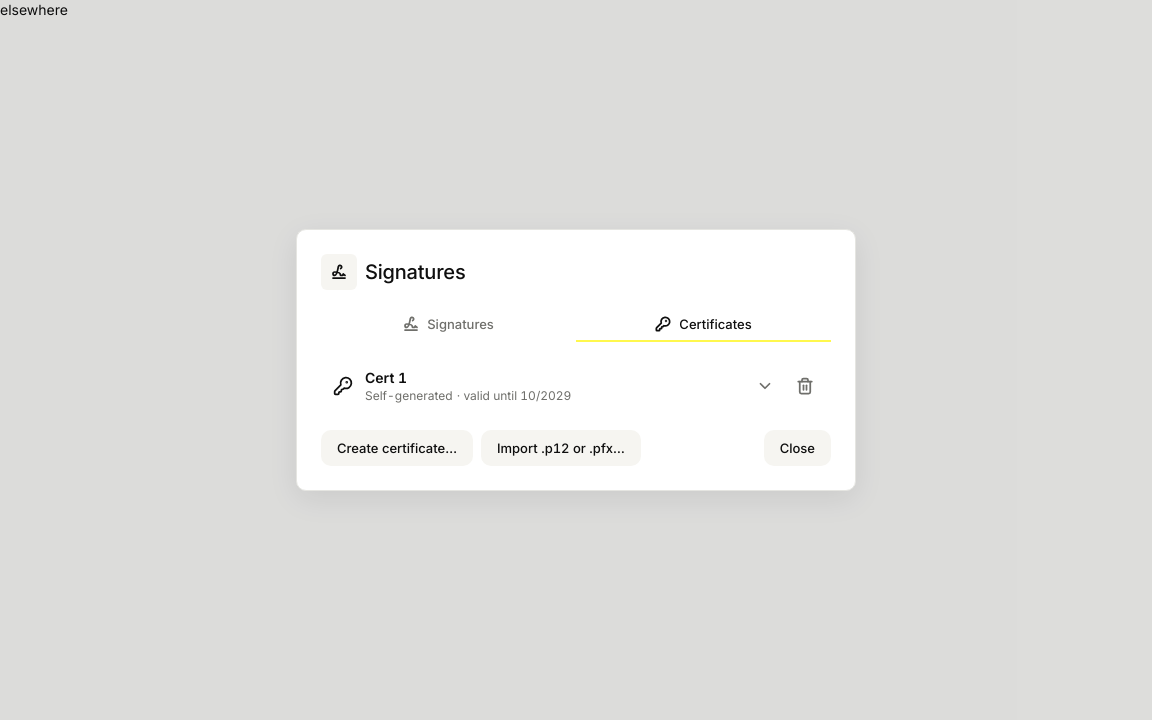
Scenario: certificate manager › switches tabs and remembers the last one
Click the tab "Signatures": (448, 324) [321,306,576,342]
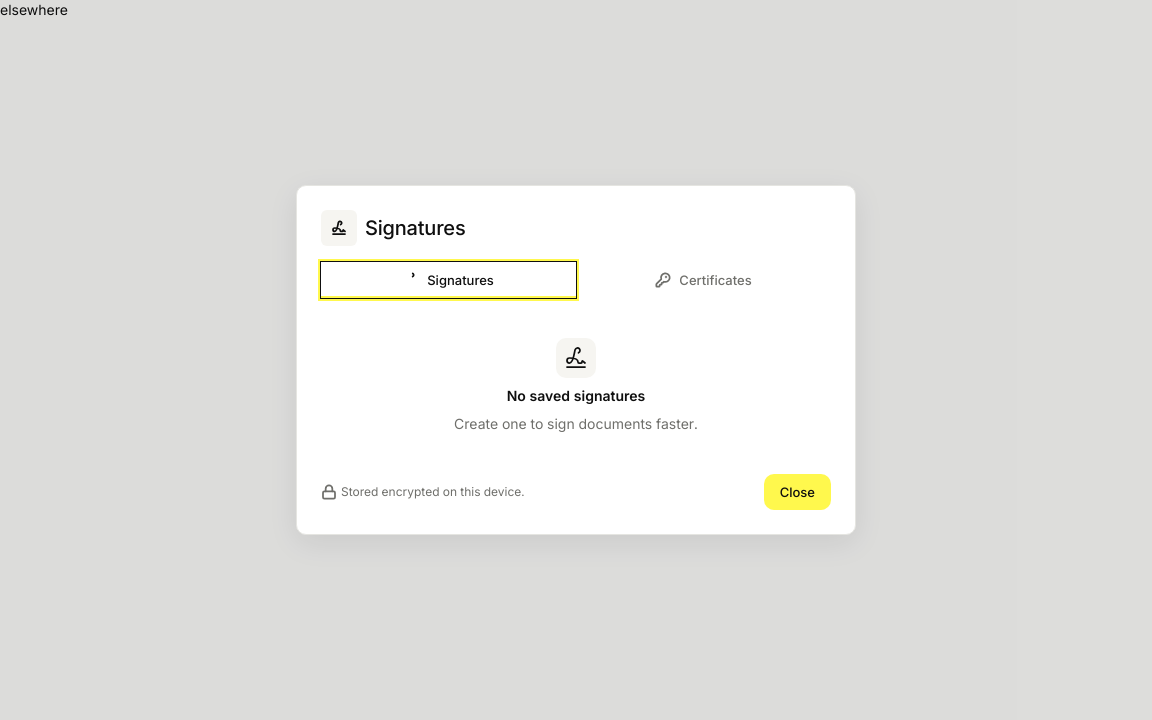
Now the button "Create certificate…" is gone
